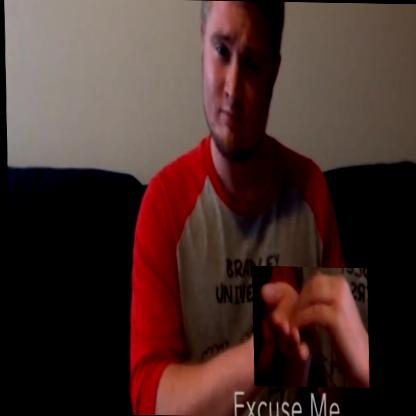ExcuseMe: (248, 266, 368, 388)
